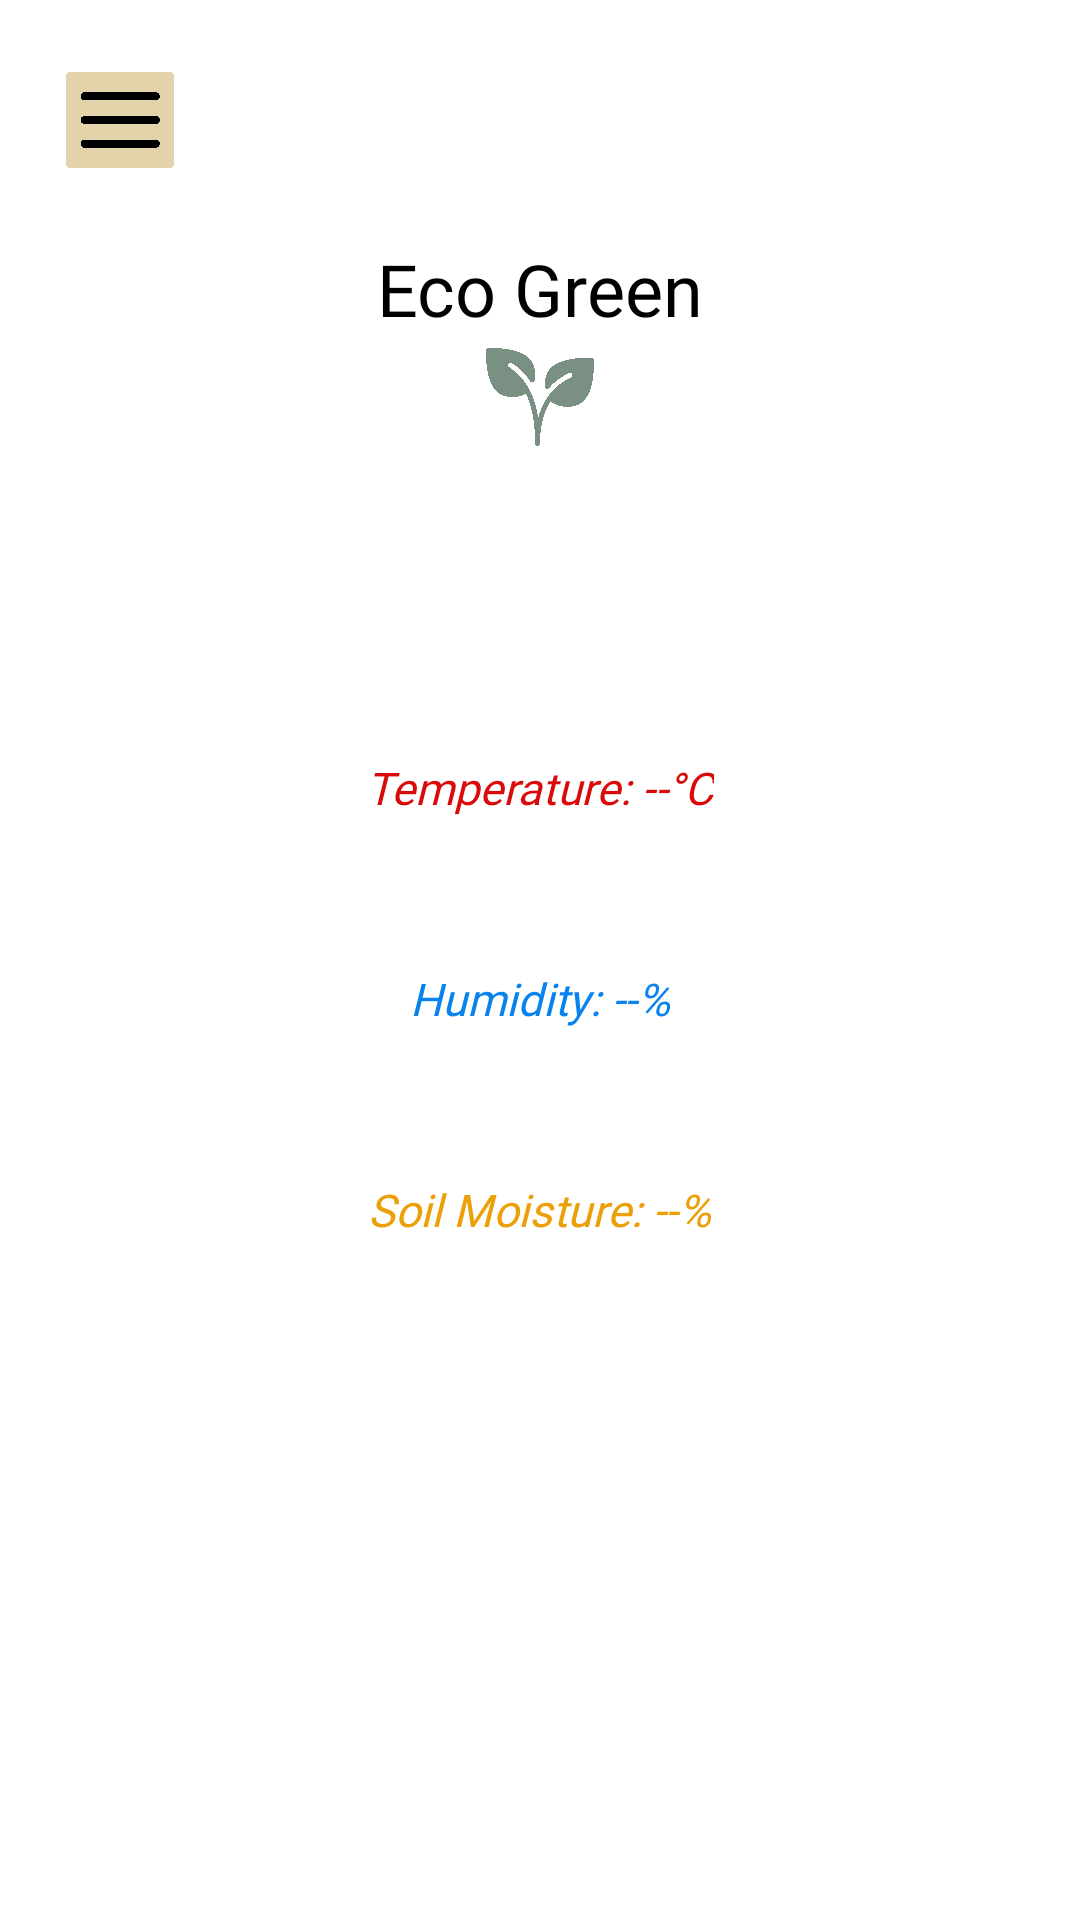

Icon bounding boxes for this 1080px x 1920px phone screenshot, format BBox(x1, y1, x2, y2):
menu: BBox(66, 72, 174, 168)
plant: BBox(486, 348, 594, 446)
